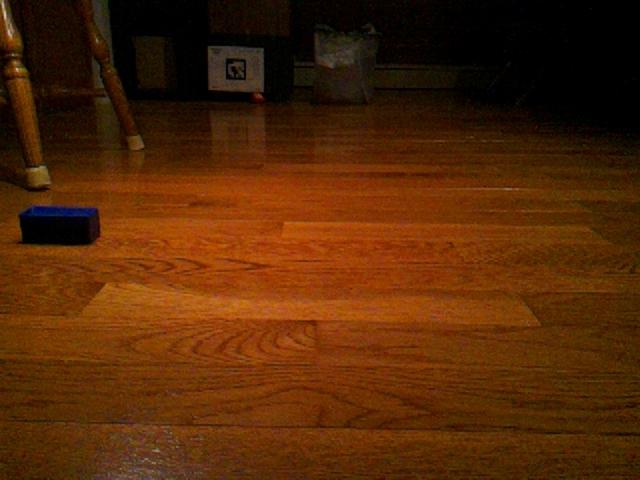blue: (18, 203, 102, 246)
